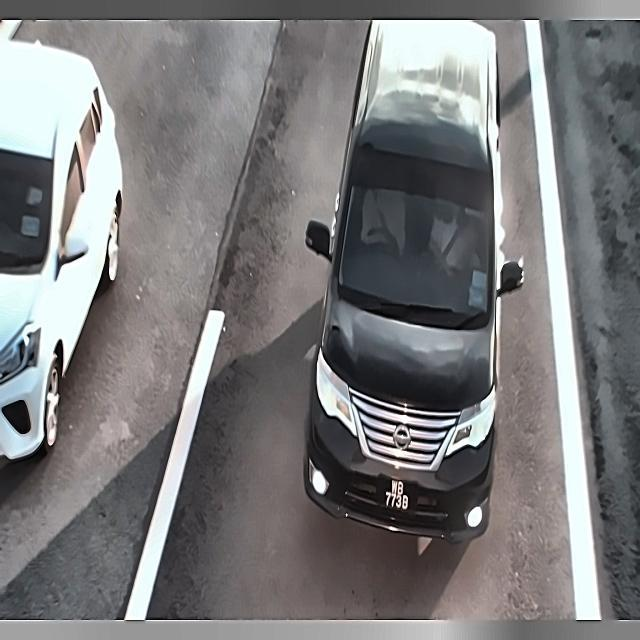car: (373, 463, 423, 523)
